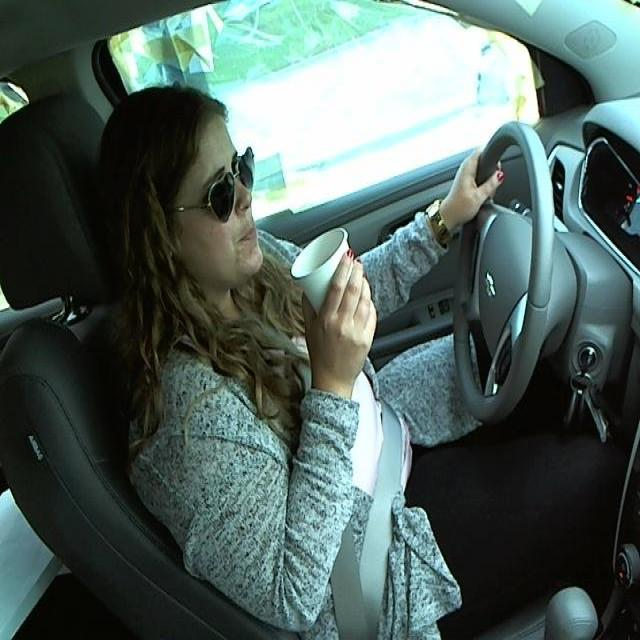drinking: (288, 227, 376, 349)
